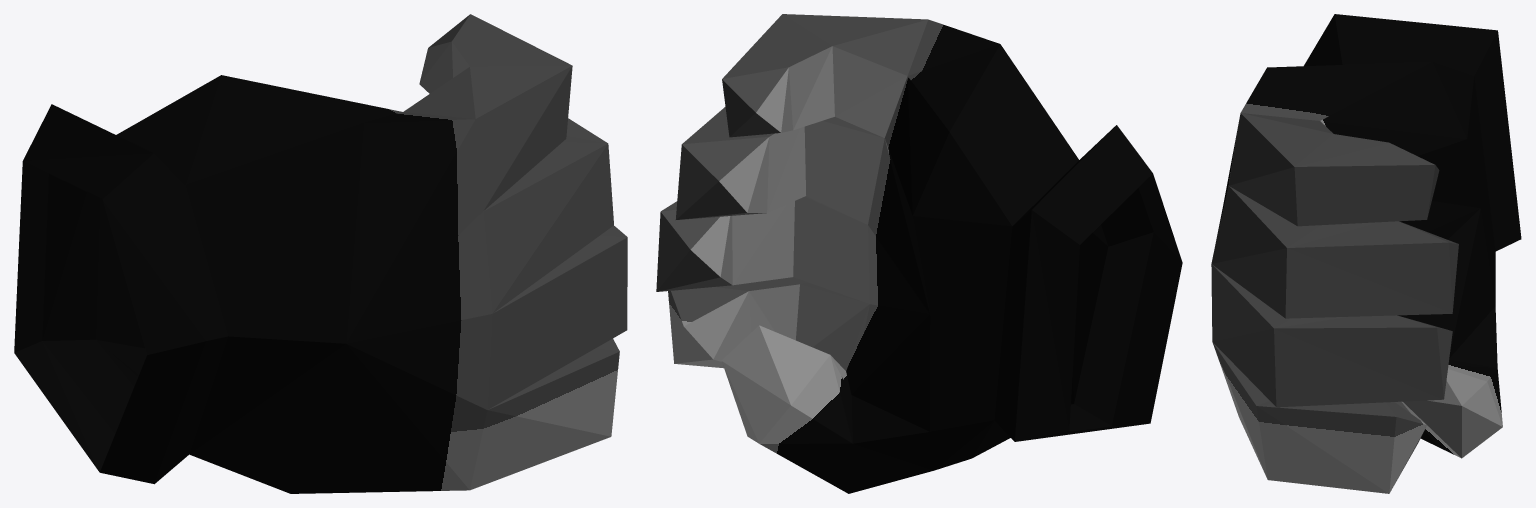
Rendered from ma_hnd2l.obj.
The picture shows the model from 3 angles, left to right: view 1: azimuth 30°, elevation 25°; view 2: azimuth 150°, elevation 25°; view 3: azimuth 270°, elevation 25°; orthographic projection. The views are drawn at different scales.
Visible parts, largest first — view 1: m0_2; view 2: m0_2; view 3: m0_2.
Part boxes in pixels (bbox=[...]): m0_2: bbox=[14, 14, 627, 493]; m0_2: bbox=[656, 14, 1182, 493]; m0_2: bbox=[1211, 14, 1521, 493].
Bounding box in the file's own units: 31.81 × 25.77 × 20.22.
